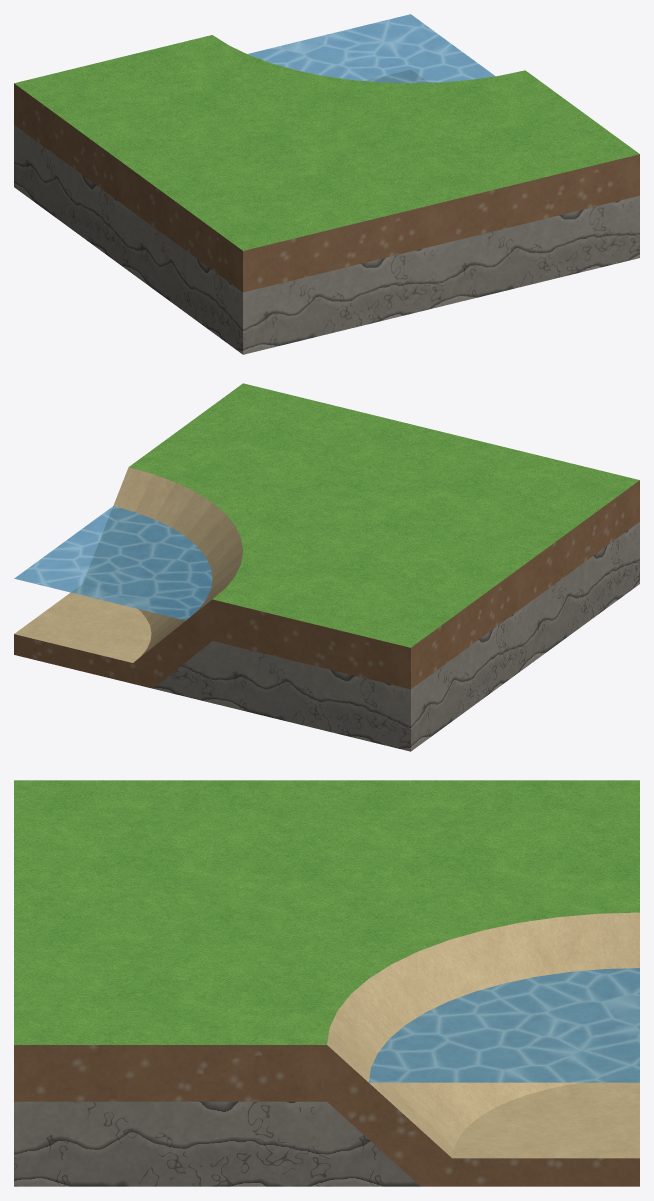
Rendered from Water_OuterCorner_L.fbx.
3 views of the same model, one above another, from view 1: azimuth 30°, elevation 25°; view 2: azimuth 150°, elevation 25°; view 3: azimuth 270°, elevation 25° (orthographic). The views are drawn at different scales.
Parts seen in each view (by area): view 1: Water_OuterCorner_L, Water_OuterCorner_L_Water; view 2: Water_OuterCorner_L, Water_OuterCorner_L_Water; view 3: Water_OuterCorner_L, Water_OuterCorner_L_Water.
Part boxes in pixels (box(x1,y1,x2,y2)): Water_OuterCorner_L: box(14, 35, 639, 354); Water_OuterCorner_L_Water: box(247, 14, 495, 83); Water_OuterCorner_L: box(14, 383, 639, 751); Water_OuterCorner_L_Water: box(14, 506, 212, 620); Water_OuterCorner_L: box(14, 780, 639, 1186); Water_OuterCorner_L_Water: box(368, 968, 639, 1082).
Bounding box in the file's own units: 3 × 0.75 × 3.
Materials: 5 (5 with a texture image).
